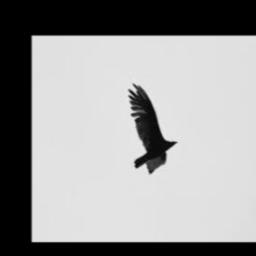Crow: (128, 82, 179, 174)
